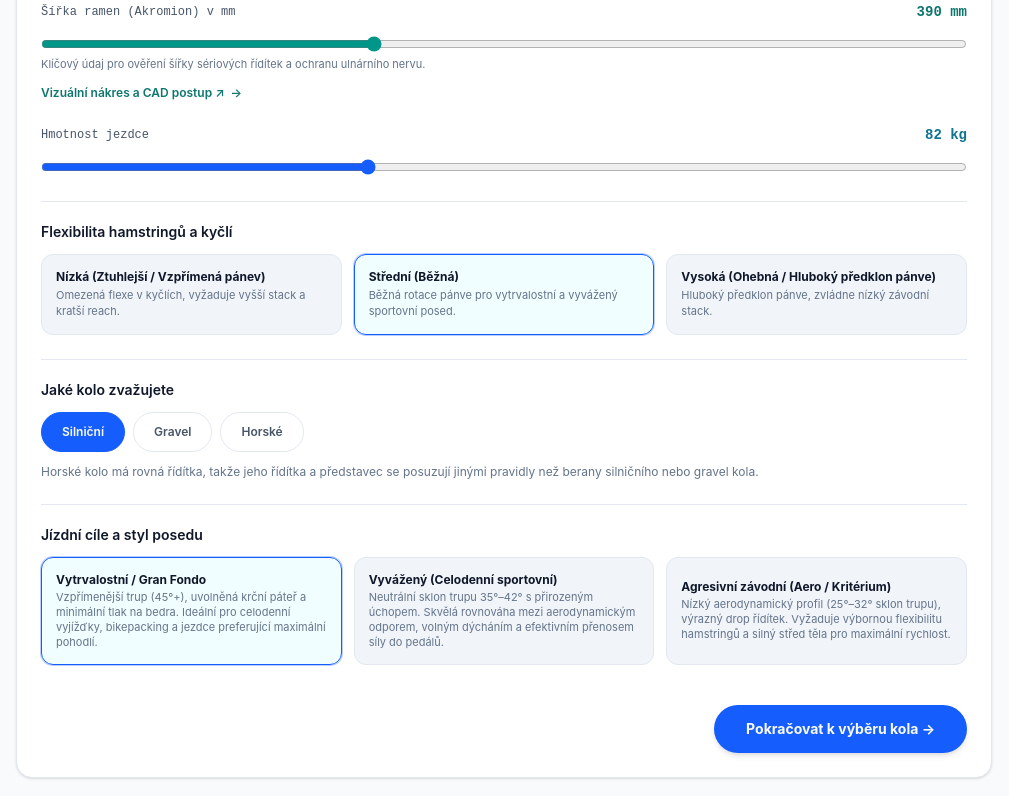
Test case: Path B: the way to the bike finder (cs) › should offer "I know the bike" first and "Help me choose" as the second way, in step 2 only
(page scrolled)
Expected: the tab "Pomozte mi vybrat" is not shown
Click the button "Pokračovat k výběru kola →" at [841, 729], box [714, 705, 967, 753]
(page scrolled)
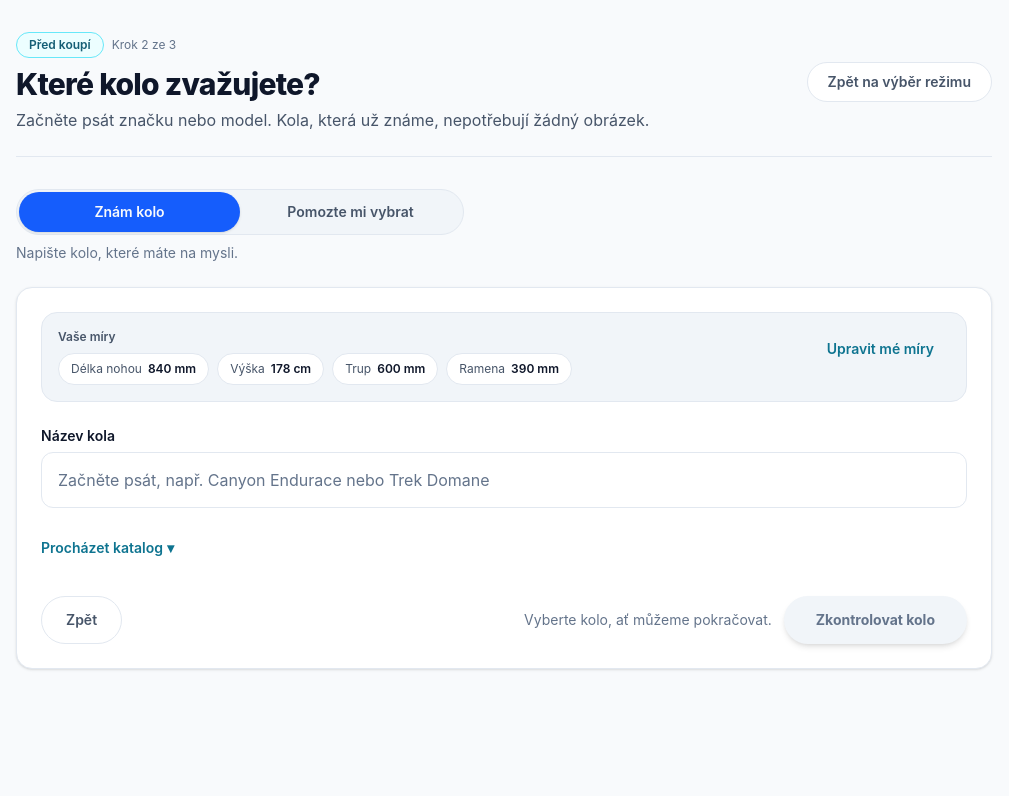
Click the tab "Pomozte mi vybrat" at [350, 212], box [240, 192, 461, 232]
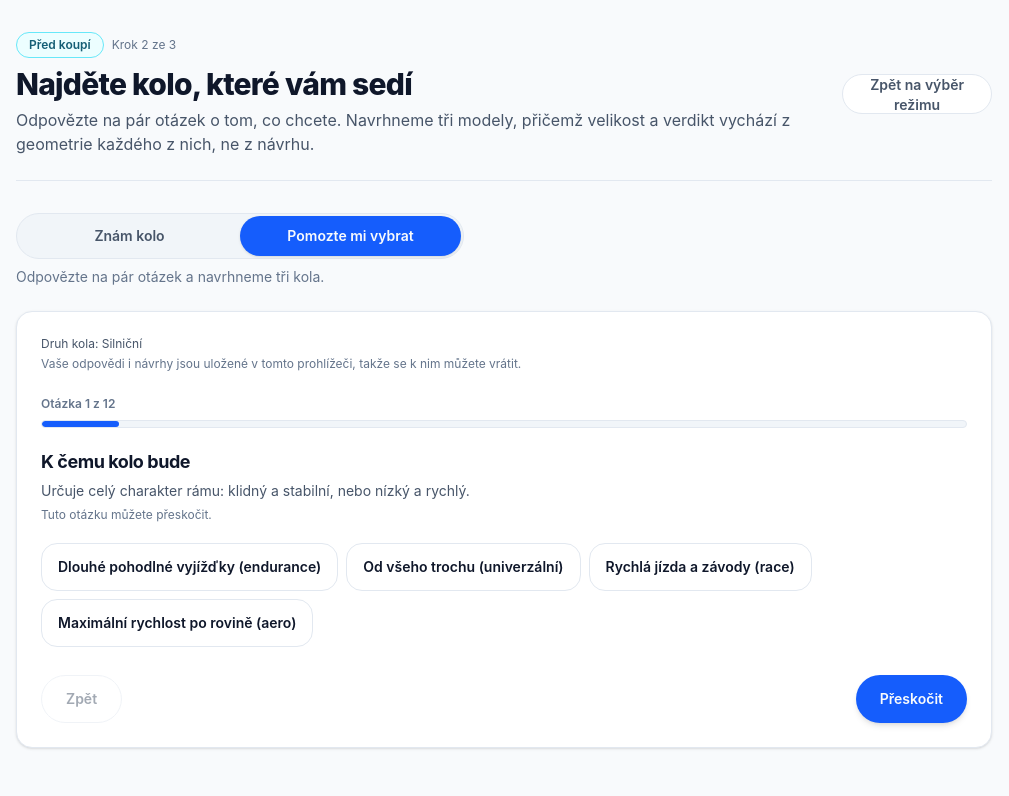
Result: the element with test id "bike-finder" is shown at [16, 311, 992, 748]
Click the tab "Znám kolo" at [130, 236], box [19, 216, 240, 256]
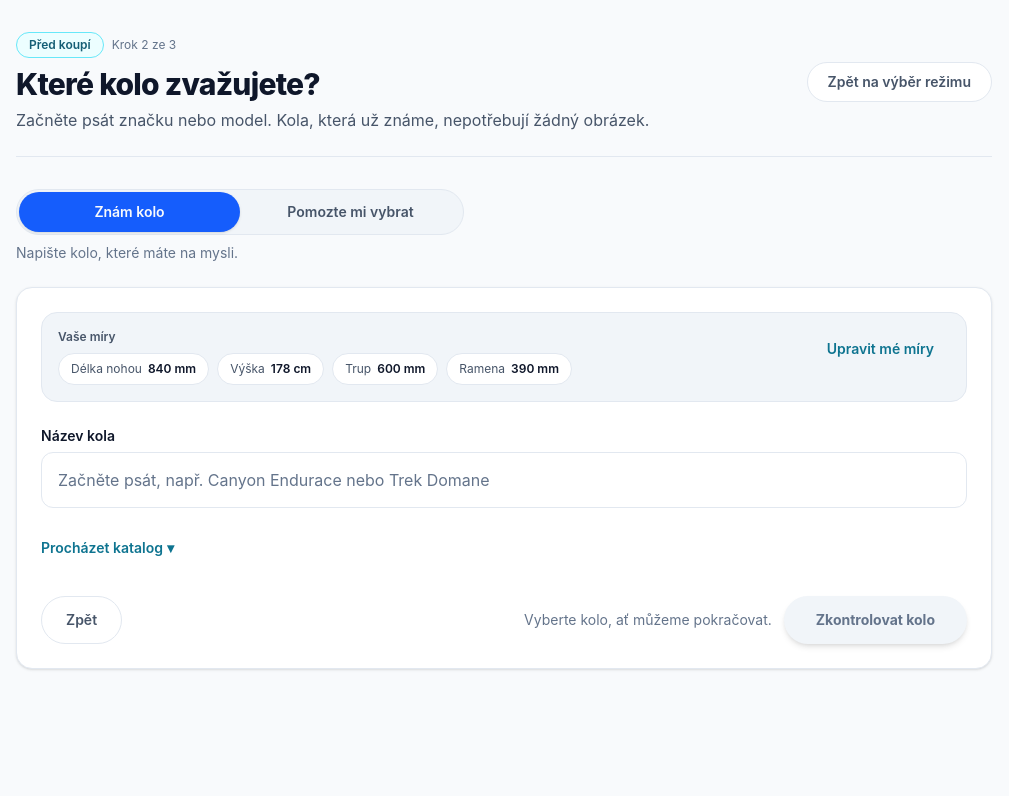
Result: the dropdown labelled "Název kola" is shown at [41, 452, 967, 508]
